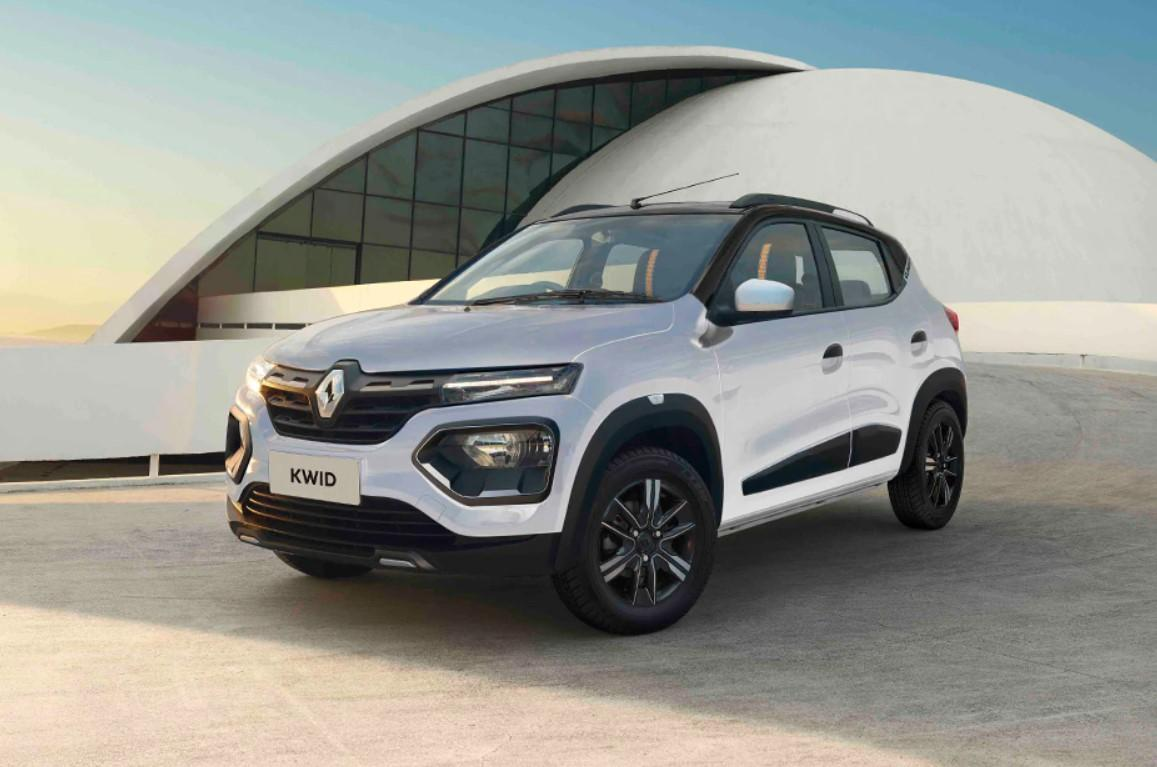Renault: (297, 357, 369, 432)
